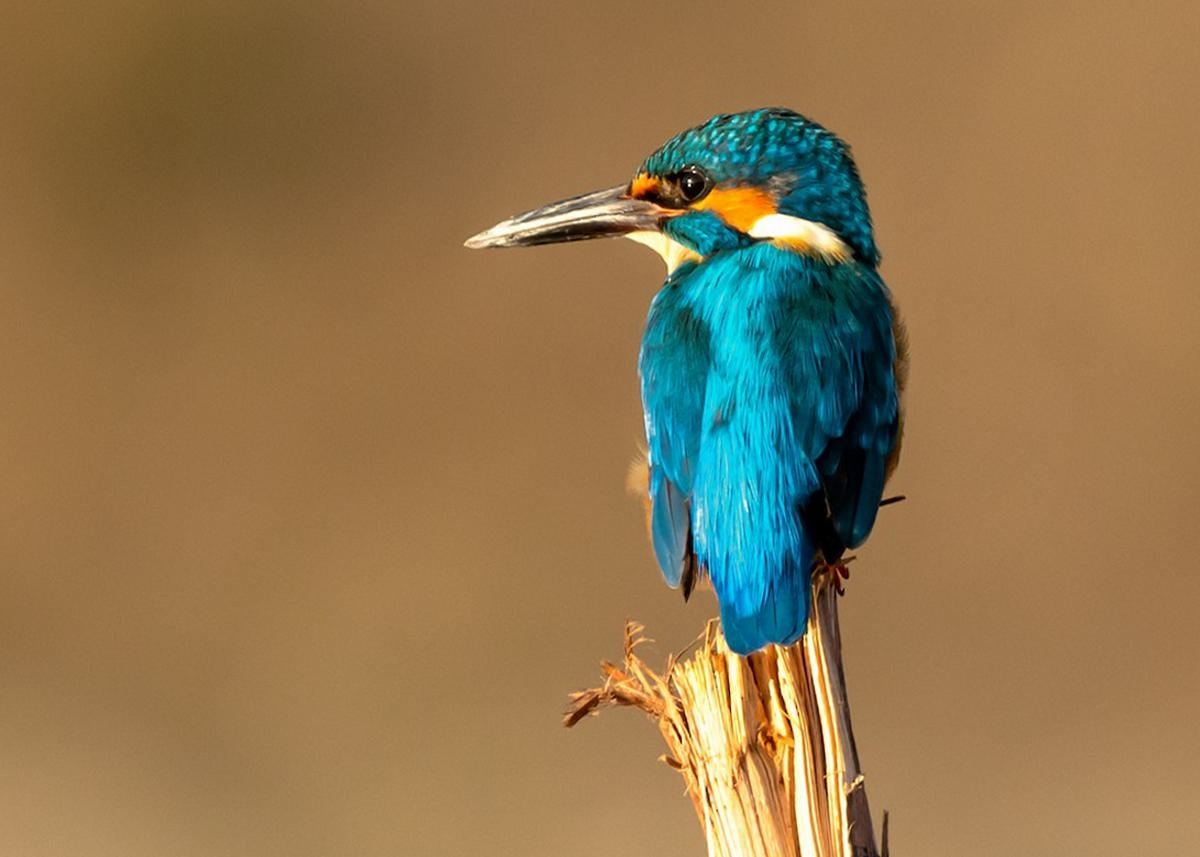kingfisher: (438, 94, 949, 701)
